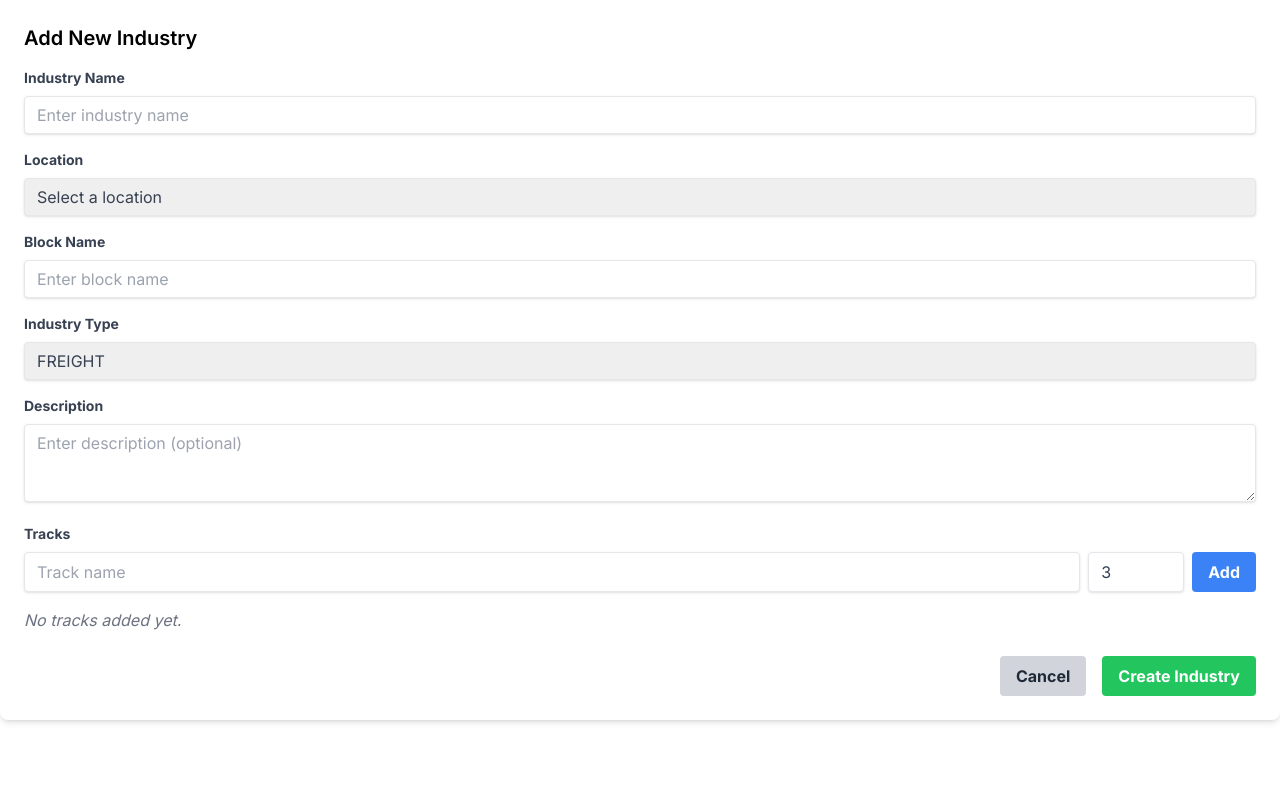
Scenario: AddIndustryForm › should add tracks when track data is entered
Expected: the field labelled "Industry Name" is shown, [24, 96, 1256, 134]
Add a track
Step 1. Type "Track 1" into the field with placeholder "Track name" → (552, 572), box [24, 552, 1080, 592]
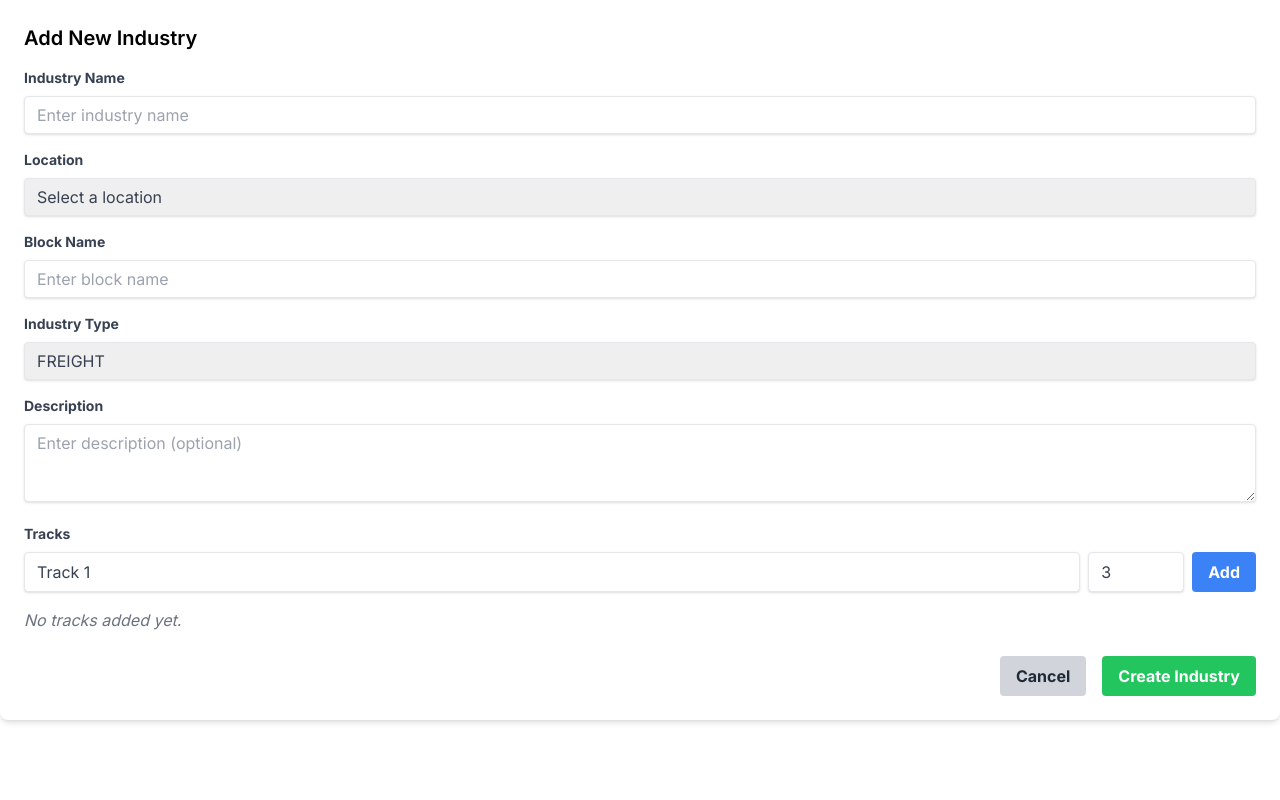
Step 2. Replace the text in the number field with placeholder "Capacity" with "5" → (1136, 572), box [1088, 552, 1184, 592]
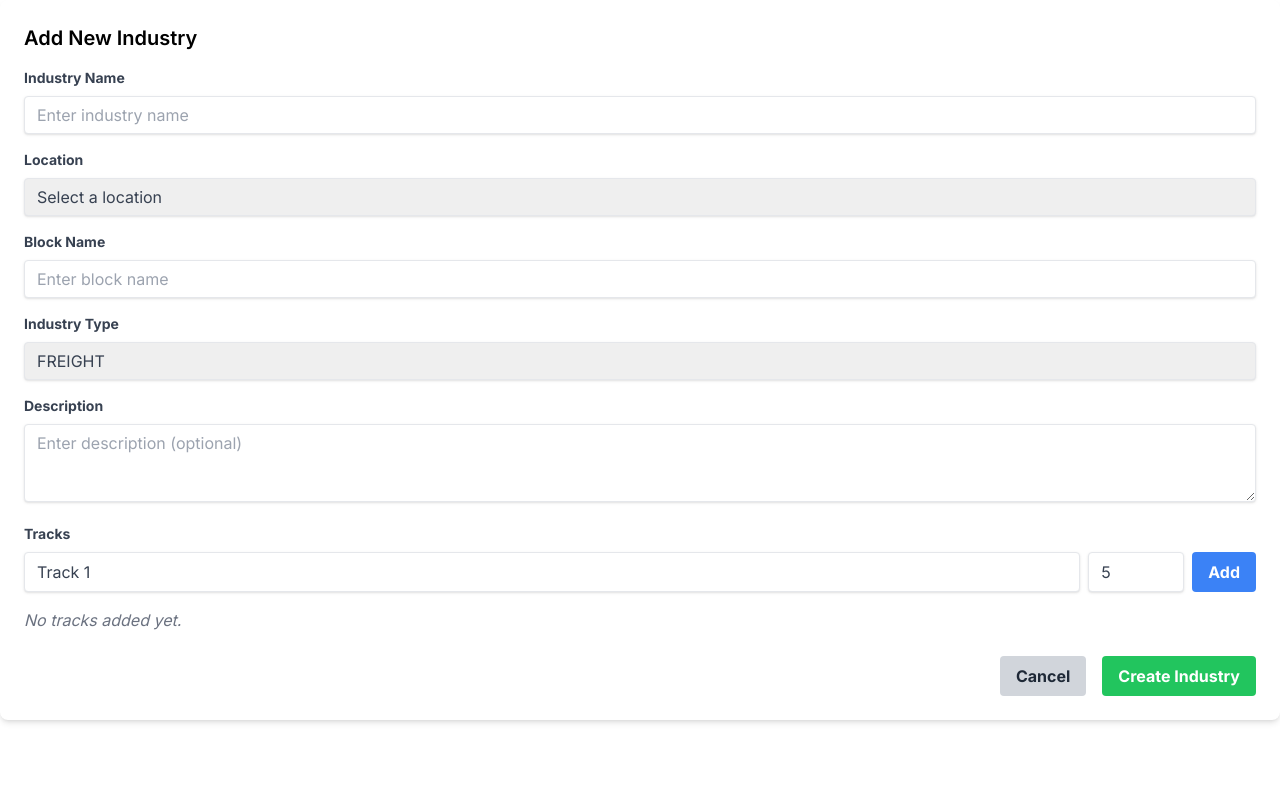
Step 3. Click the button "Add" → (1224, 572), box [1192, 552, 1256, 592]
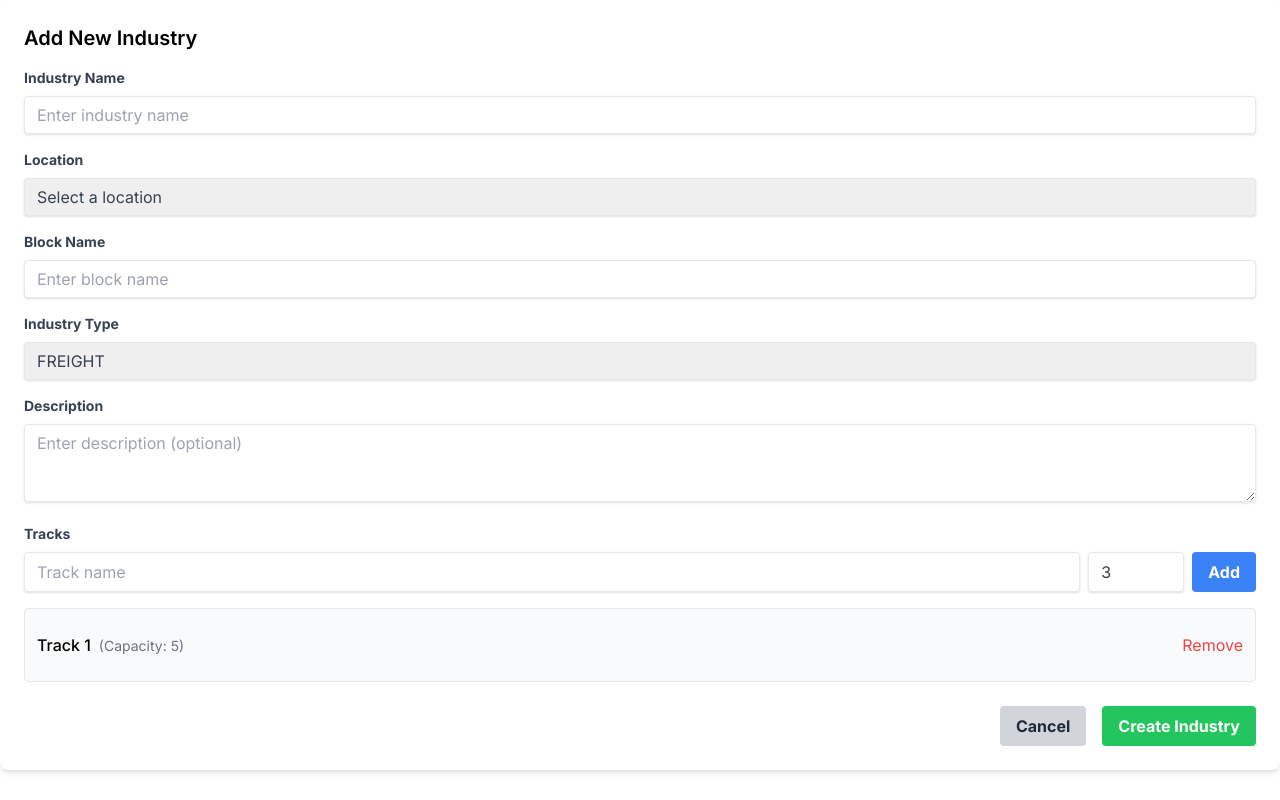
Now the text "Track 1" is shown, box [37, 635, 91, 655]
Now the text "(Capacity: 5)" is shown, box [99, 637, 184, 654]
